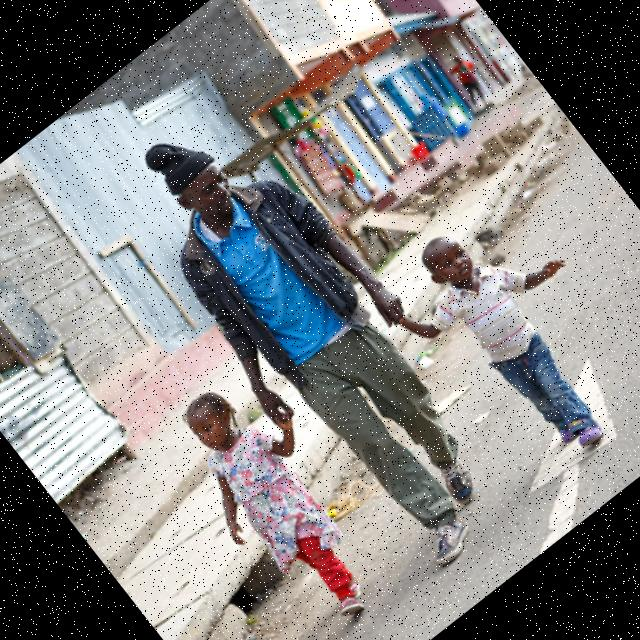Person: (93, 86, 546, 594), (373, 182, 640, 489), (151, 358, 413, 640)
